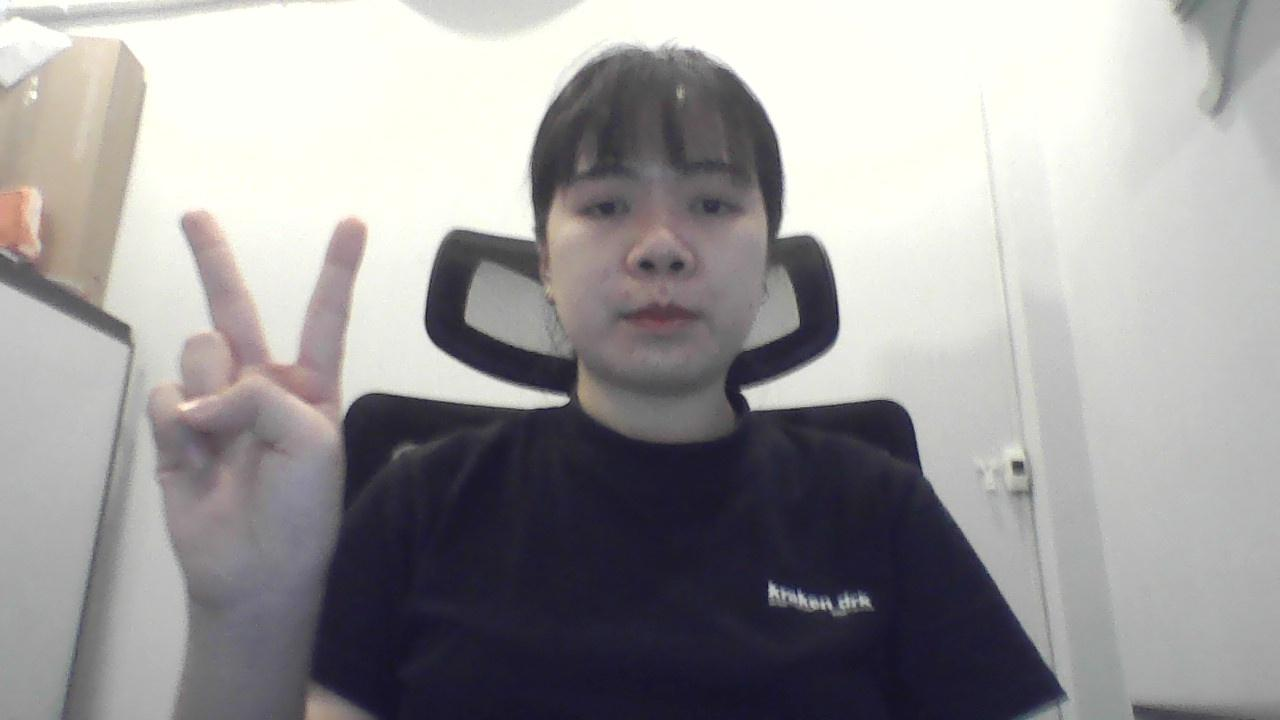V: (142, 202, 365, 638)
